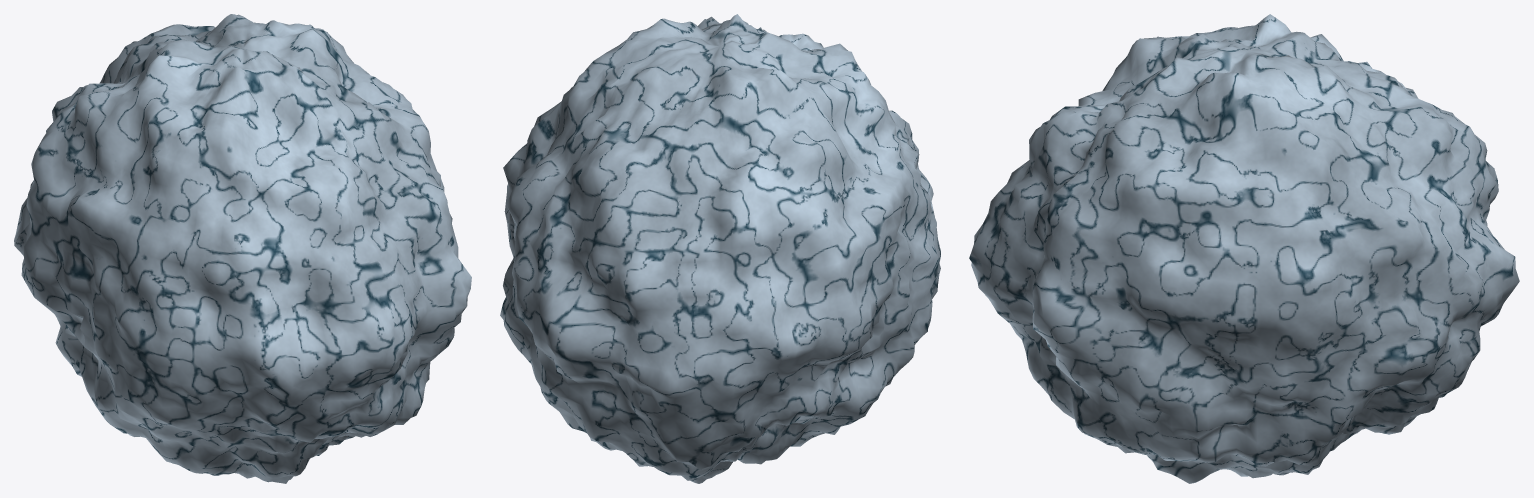
Rendered from ice-asteroid.glb.
3 views of the same model, side by side, from view 1: azimuth 30°, elevation 25°; view 2: azimuth 150°, elevation 25°; view 3: azimuth 270°, elevation 25° (orthographic).
Visible parts, largest first — view 1: ice-asteroid; view 2: ice-asteroid; view 3: ice-asteroid.
Part boxes in pixels (x1=…): ice-asteroid: x1=14, y1=14, x2=471, y2=483; ice-asteroid: x1=500, y1=14, x2=940, y2=483; ice-asteroid: x1=969, y1=14, x2=1519, y2=483.
Size of the model in its own units: 1.54 by 1.67 by 1.98.
Materials: 1 (1 with a texture image).
